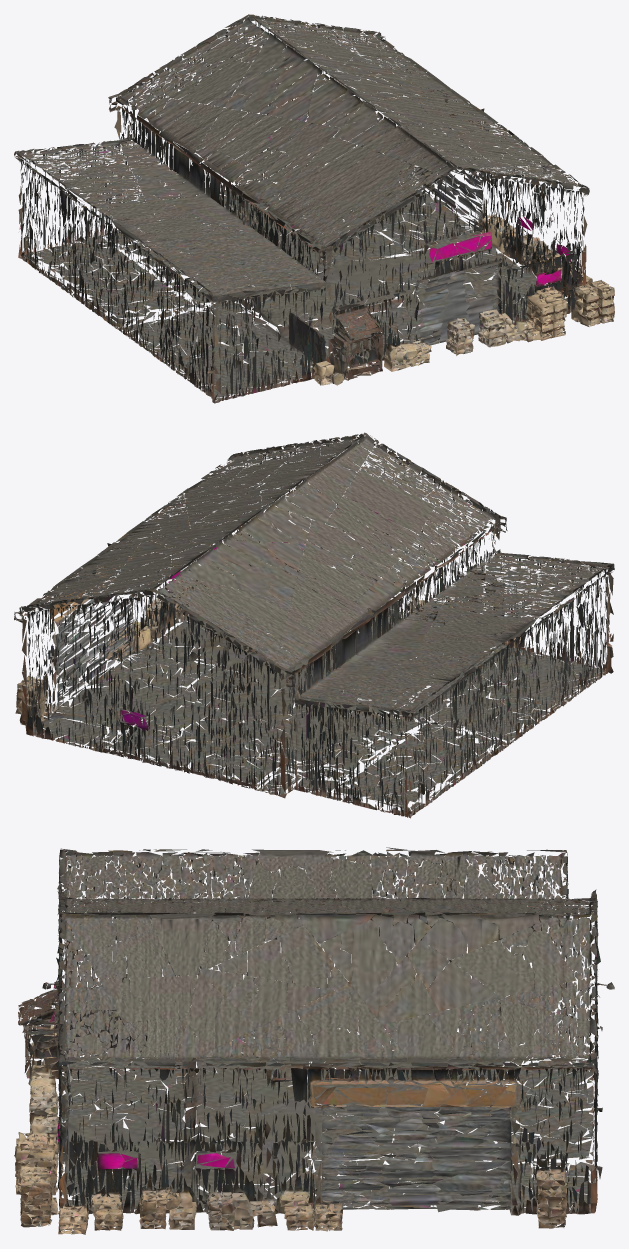
The model's file is holdfast.glb.
3 views of the same model, one above another, from view 1: azimuth 30°, elevation 25°; view 2: azimuth 150°, elevation 25°; view 3: azimuth 270°, elevation 25° (orthographic). The views are drawn at different scales.
Parts seen in each view (by area): view 1: Mesh_0; view 2: Mesh_0; view 3: Mesh_0.
Part boxes in pixels (bbox=[...]): Mesh_0: bbox=[14, 14, 614, 403]; Mesh_0: bbox=[14, 432, 614, 818]; Mesh_0: bbox=[14, 847, 614, 1234].
Bounding box in the file's own units: 1.83 × 0.7806 × 1.86.
1 material, 1 textured.
